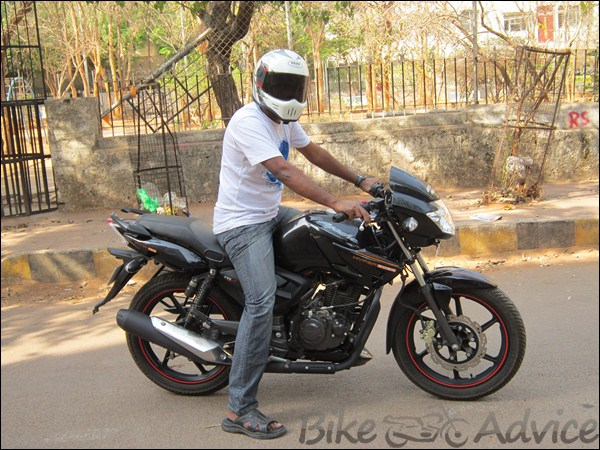helmet: (253, 37, 315, 127)
